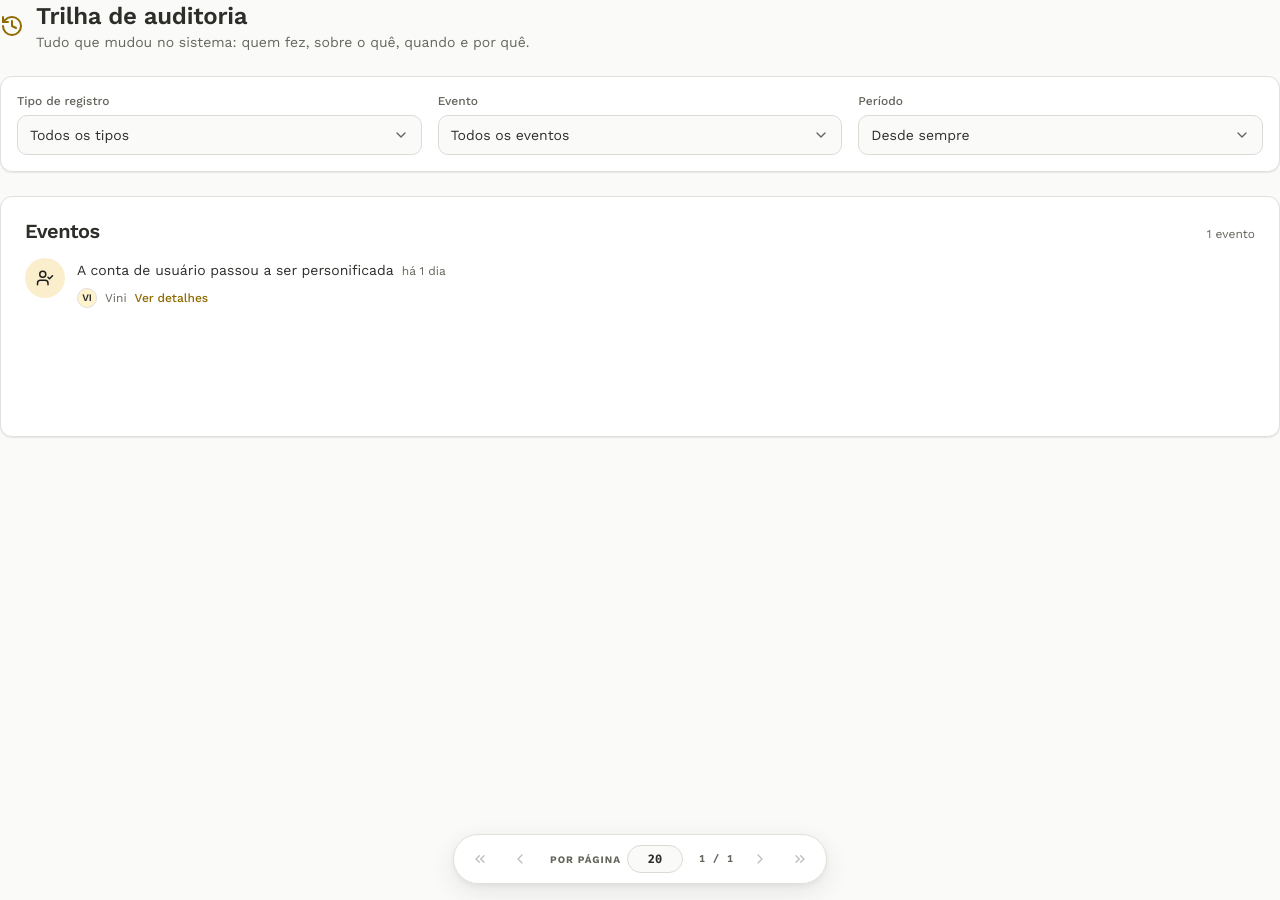
AuditTrailPage — detalhe do evento › evento sem alteração de campo diz isso, em vez de deixar a seção vazia
Check: the text "A conta de usuário passou a ser personificada" is shown, box [77,260,394,280]
Click the button "Ver detalhes". click: (171, 298)
box: [135,290,208,306]
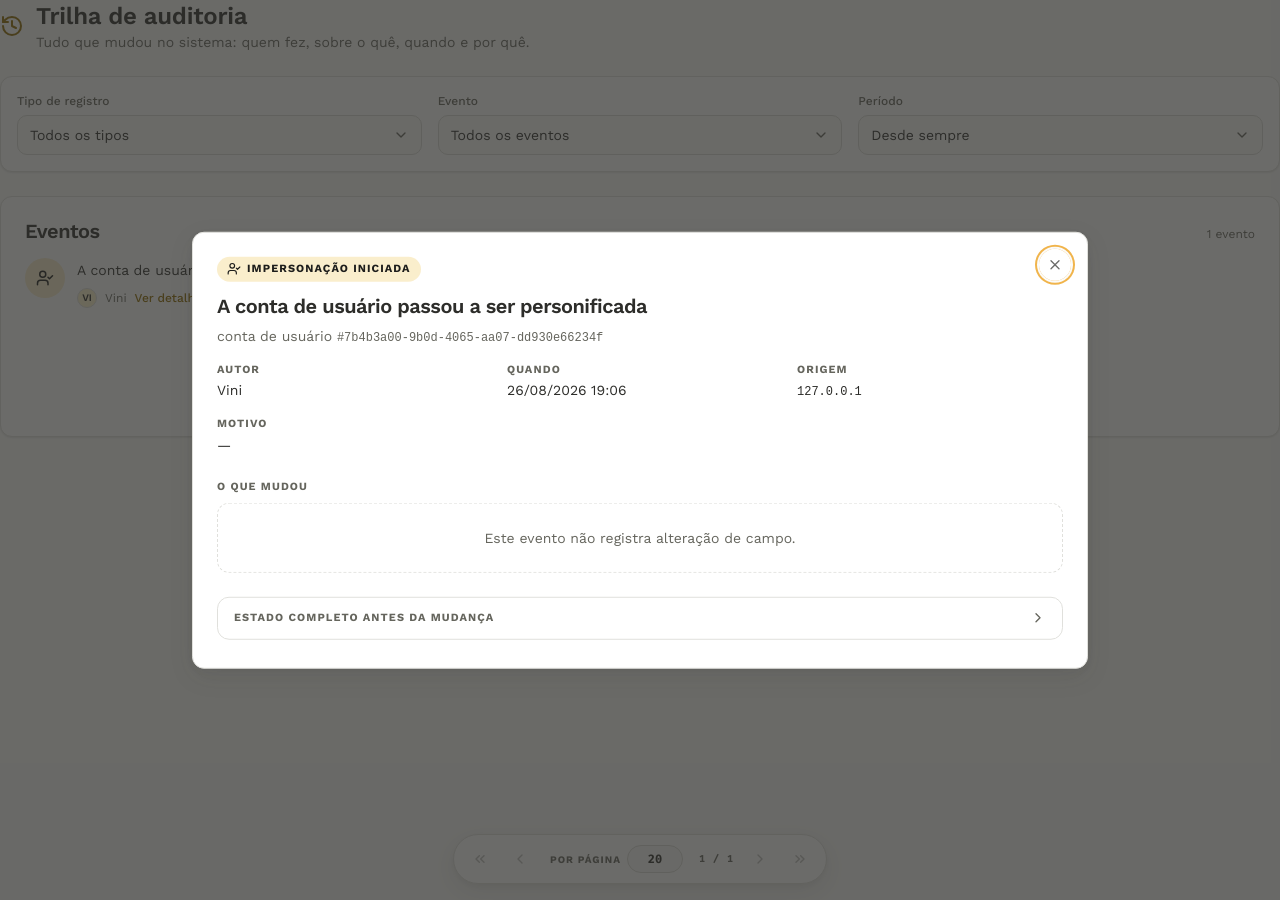
Check: the text "Este evento não registra alteração de campo." is shown, box [217,503,1063,573]
